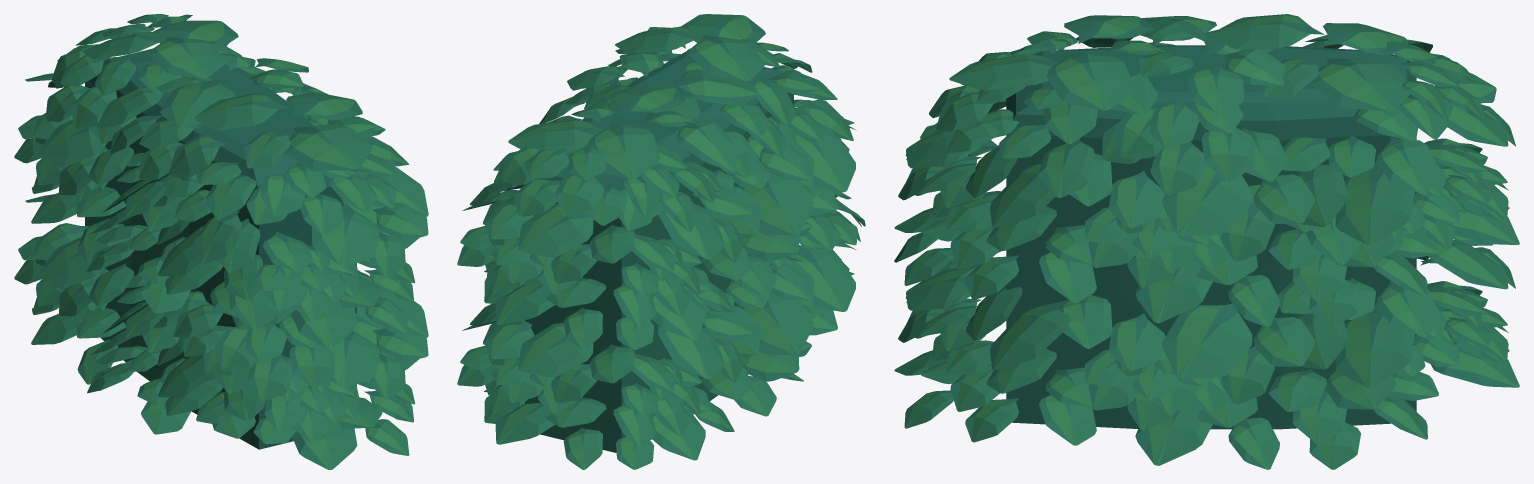
The model's file is Garden_HedgeTall01.fbx.
The picture shows the model from 3 angles, left to right: view 1: azimuth 30°, elevation 25°; view 2: azimuth 150°, elevation 25°; view 3: azimuth 270°, elevation 25°; orthographic projection. The views are drawn at different scales.
Visible parts, largest first — view 1: Cylinder.275; view 2: Cylinder.275; view 3: Cylinder.275.
Part boxes in pixels (bbox=[...]): Cylinder.275: bbox=[14, 14, 428, 469]; Cylinder.275: bbox=[457, 14, 865, 469]; Cylinder.275: bbox=[894, 14, 1519, 469].
Size of the model in its own units: 151 by 170 by 258.
